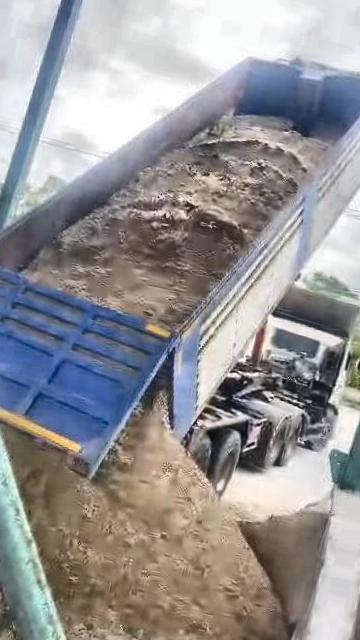sand: (4, 398, 287, 640), (27, 117, 327, 328), (242, 503, 328, 626), (0, 395, 18, 640)
